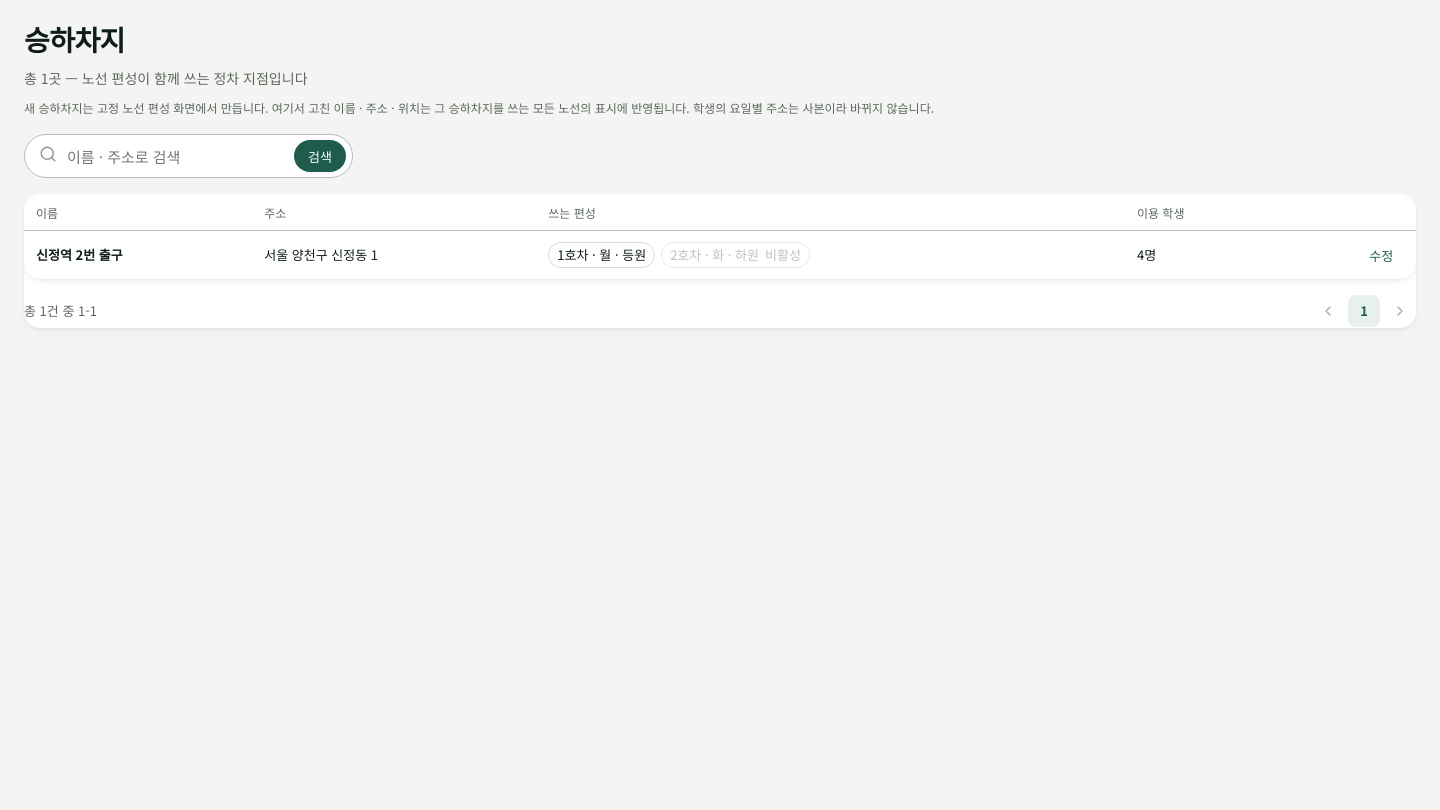
it: StopManagement — 수정 › 행의 수정 단추는 현재 이름·주소와 반영 범위 안내가 든 양식을 연다
The width and height of the screenshot is (1440, 810).
Click the button "수정".
click(1381, 255)  # box [1358, 241, 1404, 269]
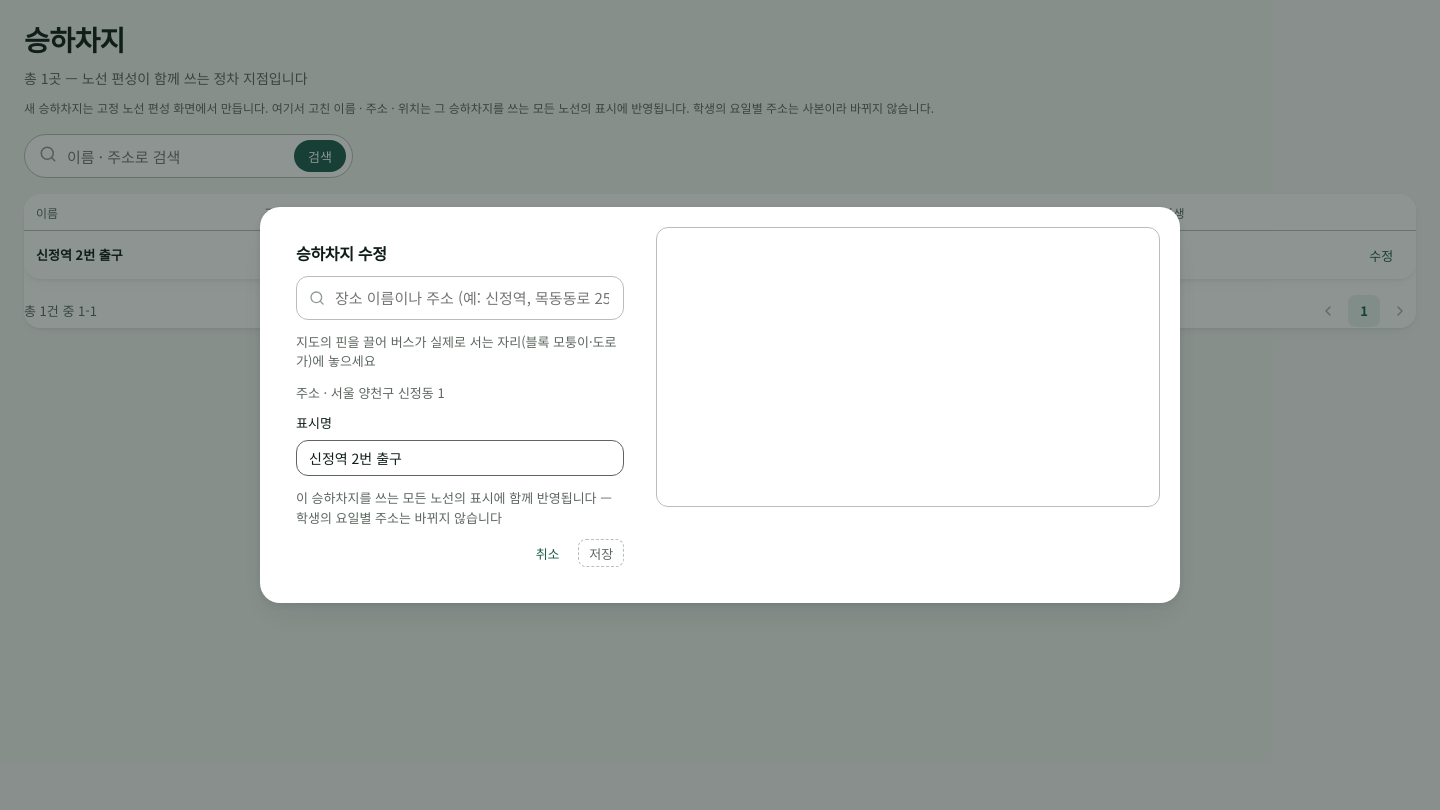
Check: the field labelled "표시명" holds "신정역 2번 출구", box [296, 440, 624, 476]
Check: the text "주소 · 서울 양천구 신정동 1" is shown, box [296, 382, 445, 402]
Check: the text "이 승하차지를 쓰는 모든 노선의 표시에 함께 반영됩니다 — 학생의 요일별 주소는 바뀌지 않습니다" is shown, box [296, 488, 624, 527]
